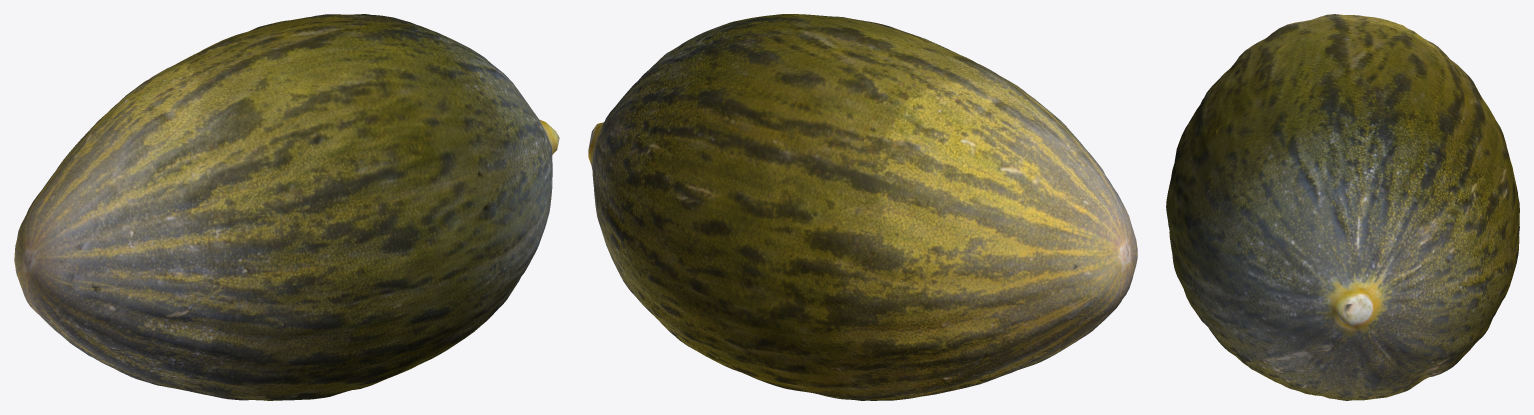
3 views of the same model, side by side, from view 1: azimuth 30°, elevation 25°; view 2: azimuth 150°, elevation 25°; view 3: azimuth 270°, elevation 25° (orthographic). The views are drawn at different scales.
Visible parts, largest first — view 1: Piel_De_Sapo_melon_retopo; view 2: Piel_De_Sapo_melon_retopo; view 3: Piel_De_Sapo_melon_retopo.
Part boxes in pixels (box(x1,y1,x2,y2)): Piel_De_Sapo_melon_retopo: box(14, 14, 559, 400); Piel_De_Sapo_melon_retopo: box(588, 14, 1137, 400); Piel_De_Sapo_melon_retopo: box(1166, 14, 1519, 400).
Size of the model in its own units: 617 by 376 by 380.
Materials: 1 (1 with a texture image).
